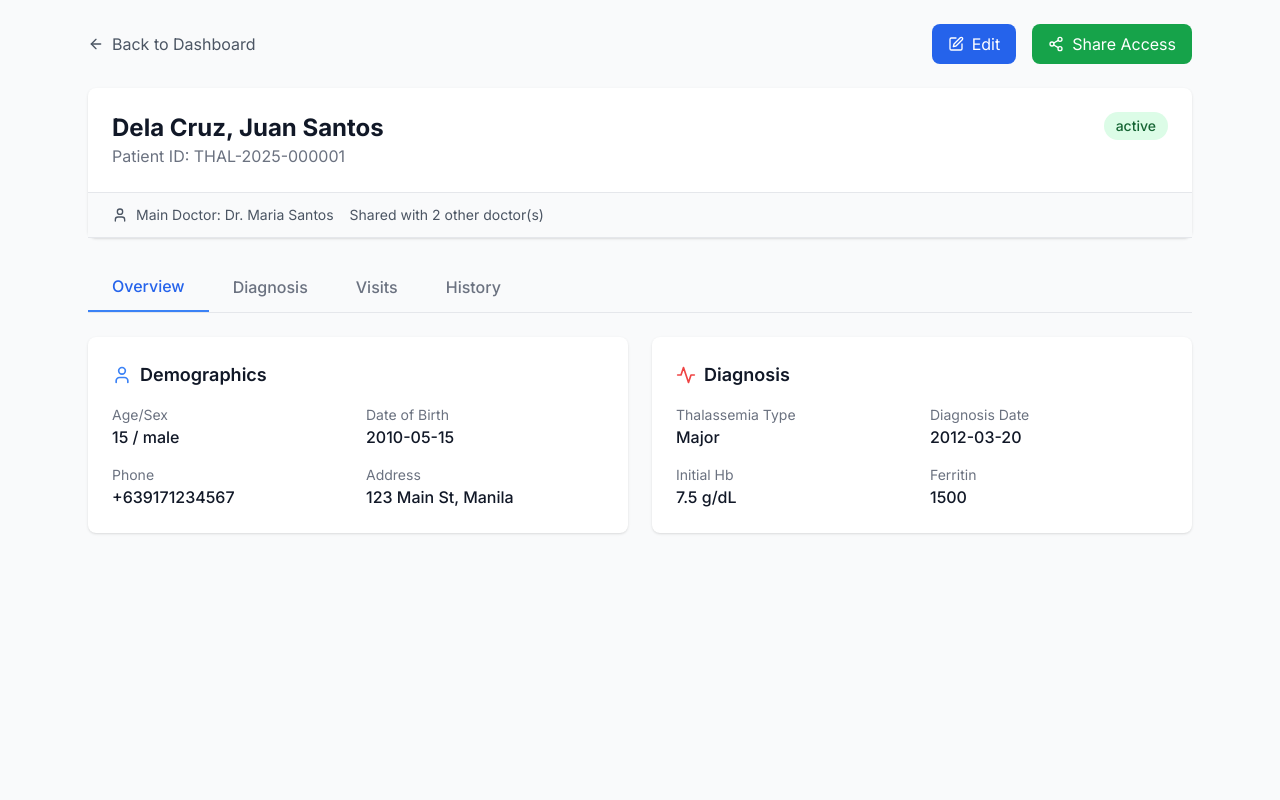
Scenario: PatientDetail (Req 4.1, 4.2 - Patient Data & Access Control) › Share Access Modal (Req 4.2 Admin Override) › should open share modal when Share Access button is clicked
The width and height of the screenshot is (1280, 800).
Click the button "Share Access" at [1112, 44], box [1032, 24, 1192, 64]
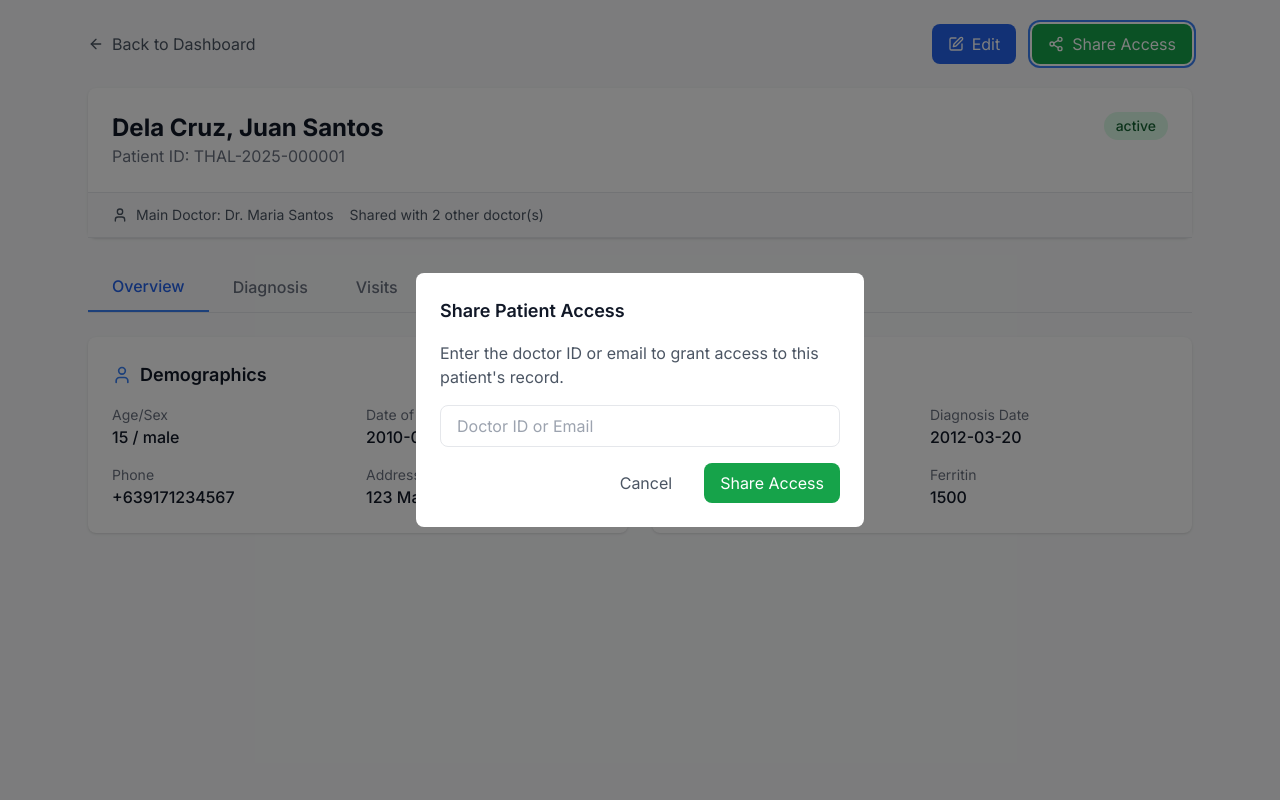
Now the heading "Share Patient Access" is shown, box [440, 300, 625, 321]
Now the field with placeholder "Doctor ID or Email" is shown, box [440, 405, 840, 447]
